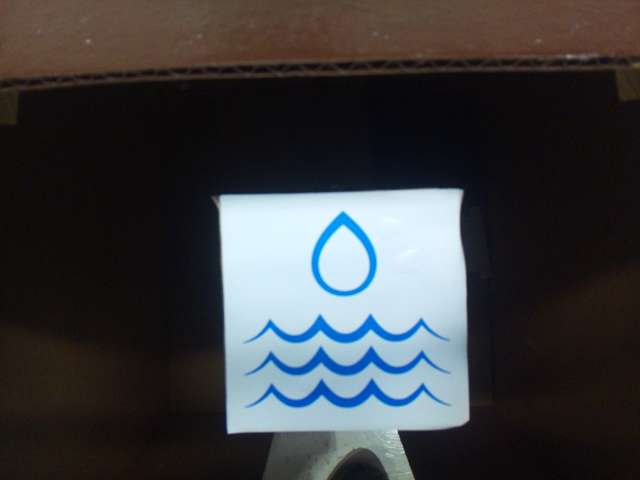water_barn: (222, 196, 469, 430)
